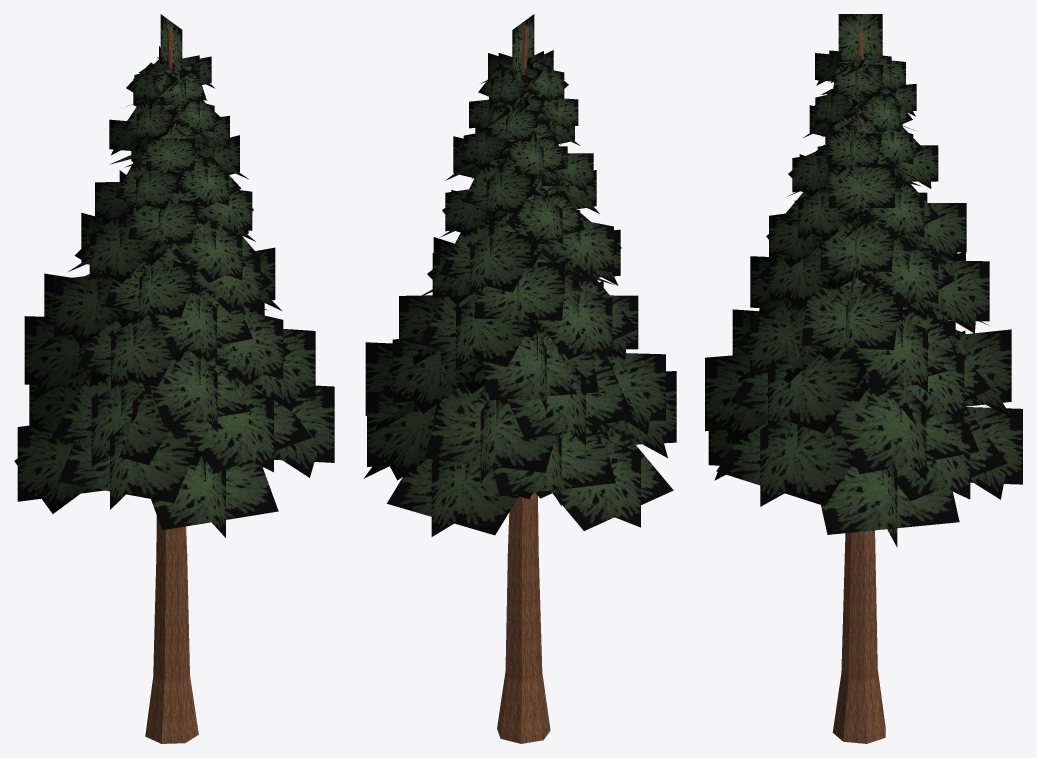
Rendered from Pine_Giant_1_LOD1.gltf.
3 renders of one model, left to right at view 1: azimuth 30°, elevation 25°; view 2: azimuth 150°, elevation 25°; view 3: azimuth 270°, elevation 25°, orthographic.
Visible parts, largest first — view 1: Pine_Giant_1_LOD1; view 2: Pine_Giant_1_LOD1; view 3: Pine_Giant_1_LOD1.
Boxes of the visible parts, x1,y1,x2,y2 form: Pine_Giant_1_LOD1: (14, 14, 334, 743); Pine_Giant_1_LOD1: (363, 14, 676, 743); Pine_Giant_1_LOD1: (705, 14, 1022, 743).
Size of the model in its own units: 15.24 by 37.82 by 15.15.
2 materials, 2 textured.
